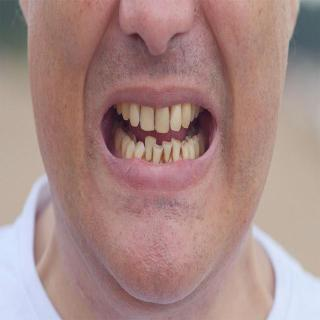maligned: (142, 134, 156, 160), (151, 141, 163, 164)
stains: (150, 147, 158, 165), (156, 150, 166, 164), (167, 146, 175, 162), (138, 151, 148, 163), (178, 146, 186, 160)
